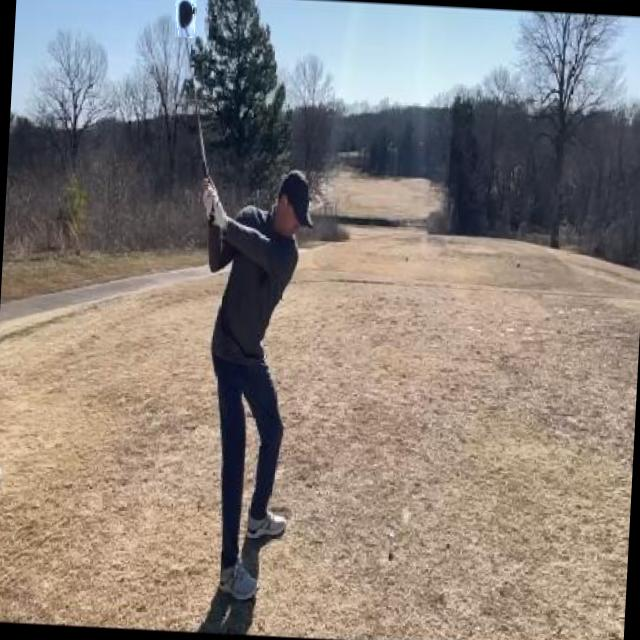club head: (174, 0, 196, 38)
